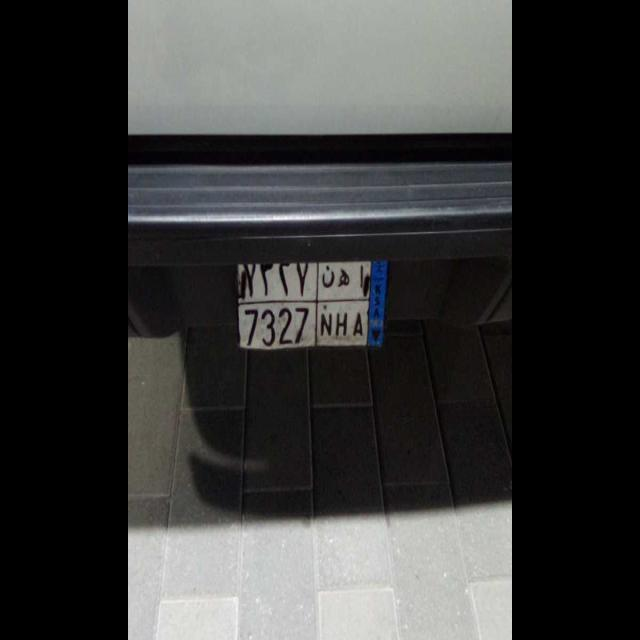license_plate: (230, 301, 369, 358)
